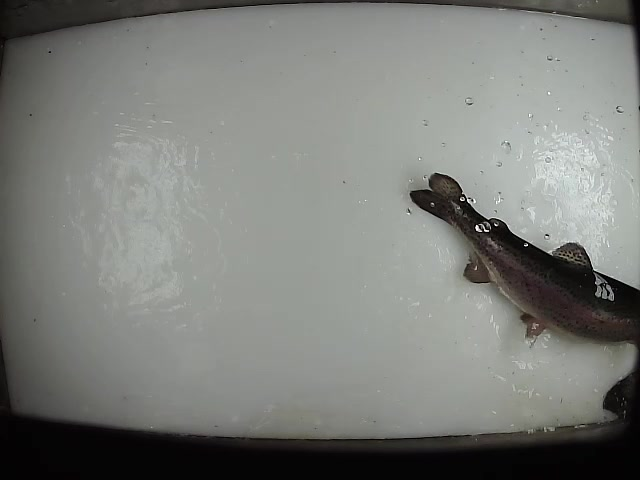fish: (408, 170, 640, 351)
